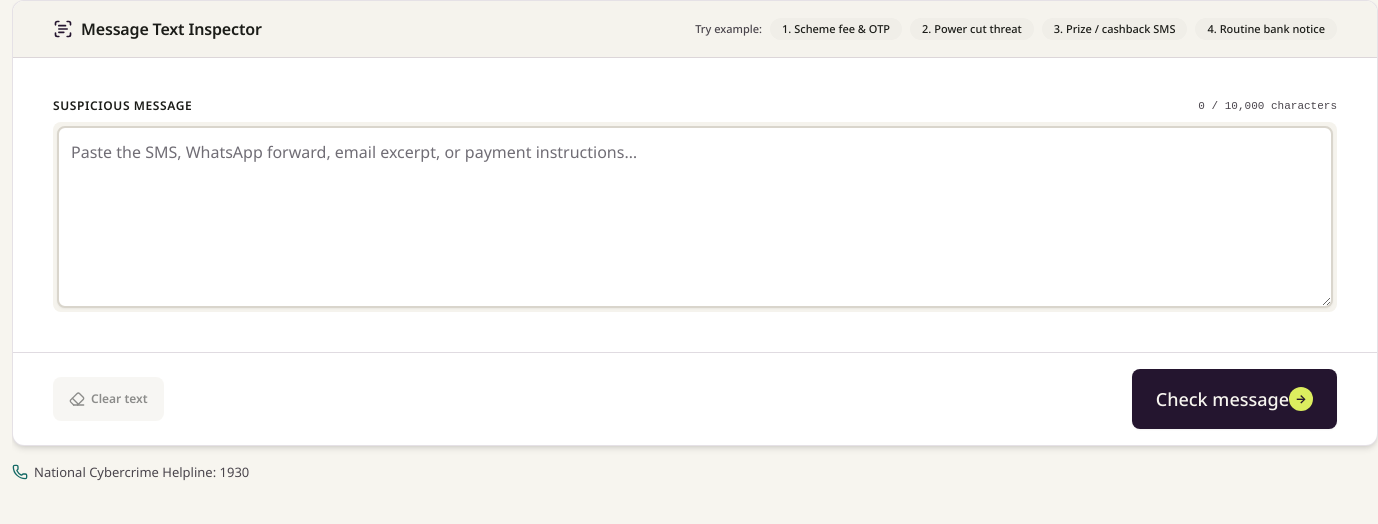
Test: FraudChecker › validates empty input
Click the button "Check message →": (1234, 399) 1132,369 -> 1337,429
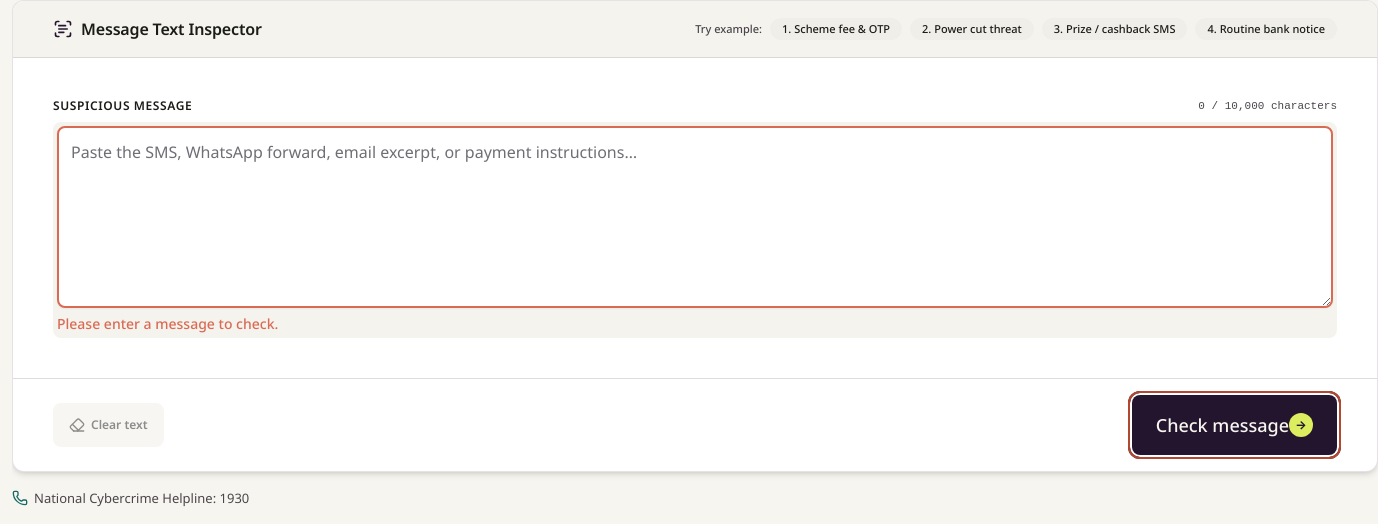
Expected: the text "Please enter a message to check." is shown, 57,314 -> 278,333
